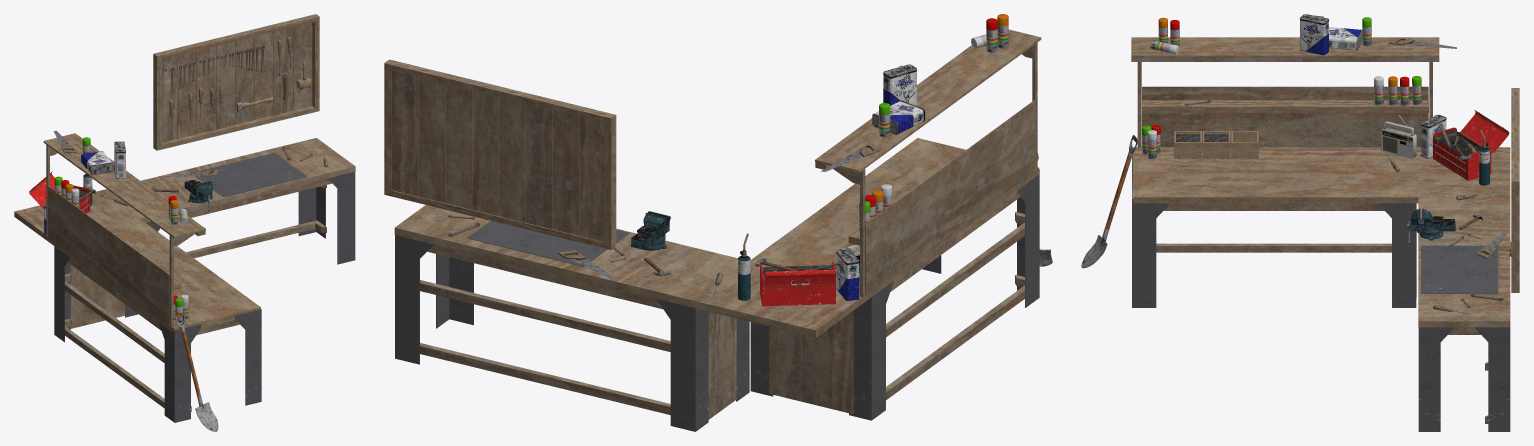
File: garage-desk.glb
3 views of the same model, side by side, from view 1: azimuth 30°, elevation 25°; view 2: azimuth 150°, elevation 25°; view 3: azimuth 270°, elevation 25° (orthographic). The views are drawn at different scales.
Visible parts, largest first — view 1: Object_11, Object_12, Object_0, Object_128, Object_131, Object_136, Object_162, Object_134, Object_100, Object_117, Object_163; view 2: Object_11, Object_12, Object_0, Object_134, Object_162, Object_136, Object_117, Object_163; view 3: Object_12, Object_11, Object_0, Object_134, Object_162, Object_1, Object_136, Object_168, Object_131, Object_117, Object_135, Object_163.
Part boxes in pixels (box(x1,y1,x2,y2)): Object_11: box(46, 22, 331, 411); Object_12: box(14, 14, 355, 333); Object_0: box(54, 45, 355, 422); Object_128: box(170, 46, 312, 181); Object_131: box(175, 313, 218, 431); Object_136: box(54, 145, 188, 322); Object_162: box(44, 144, 125, 233); Object_134: box(29, 171, 90, 213); Object_100: box(116, 36, 328, 206); Object_117: box(184, 181, 213, 203); Object_163: box(44, 141, 125, 234); Object_11: box(391, 42, 1037, 419); Object_12: box(384, 29, 1041, 337); Object_0: box(395, 169, 1039, 431); Object_134: box(760, 261, 836, 306); Object_162: box(836, 70, 924, 300); Object_136: box(859, 25, 1008, 233); Object_117: box(631, 211, 670, 250); Object_163: box(836, 64, 925, 301); Object_12: box(1131, 37, 1519, 327); Object_11: box(1131, 57, 1488, 423); Object_0: box(1132, 153, 1510, 431); Object_134: box(1433, 110, 1509, 180); Object_162: box(1300, 19, 1446, 158); Object_1: box(1174, 131, 1258, 158); Object_136: box(1142, 26, 1421, 159); Object_168: box(1381, 115, 1416, 158); Object_131: box(1081, 135, 1137, 268); Object_117: box(1411, 208, 1455, 240); Object_135: box(1434, 131, 1481, 156); Object_163: box(1300, 14, 1446, 158).
Bounding box in the file's own units: 1.6 × 1.08 × 1.68.
Materials: 32 (32 with a texture image).
